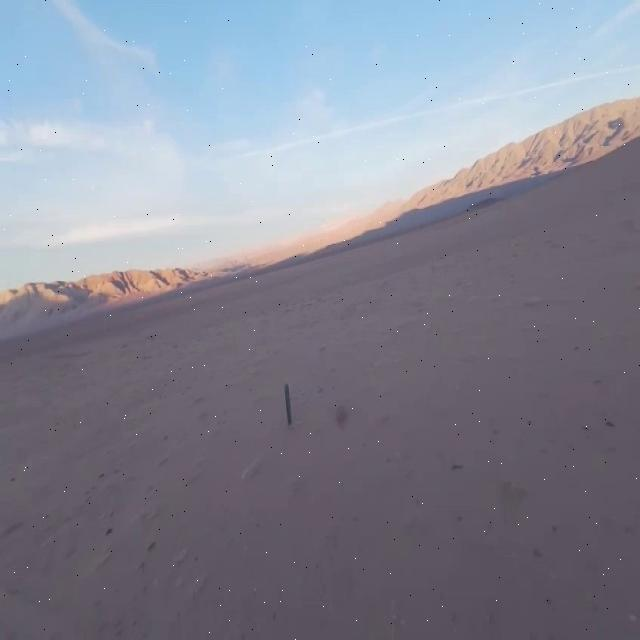Tire: (285, 383, 292, 426)
